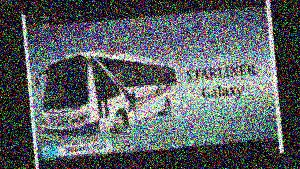bus: (33, 43, 185, 142)
